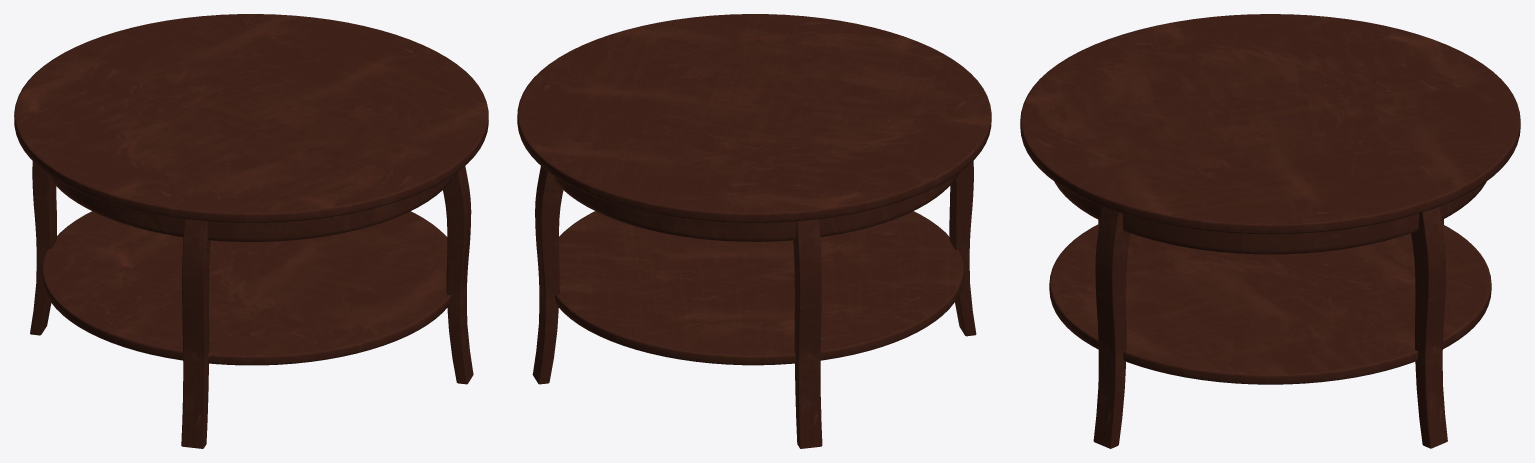
The model's file is abo_B07DBGQ9DT.glb.
3 views of the same model, side by side, from view 1: azimuth 30°, elevation 25°; view 2: azimuth 150°, elevation 25°; view 3: azimuth 270°, elevation 25° (orthographic). The views are drawn at different scales.
Visible parts, largest first — view 1: RootNode; view 2: RootNode; view 3: RootNode.
Part boxes in pixels (x1,y1,x2,y2): RootNode: [14, 14, 488, 448]; RootNode: [517, 14, 991, 448]; RootNode: [1020, 14, 1520, 448].
Bounding box in the file's own units: 0.9108 × 0.5124 × 0.9108.
1 material, 1 textured.
